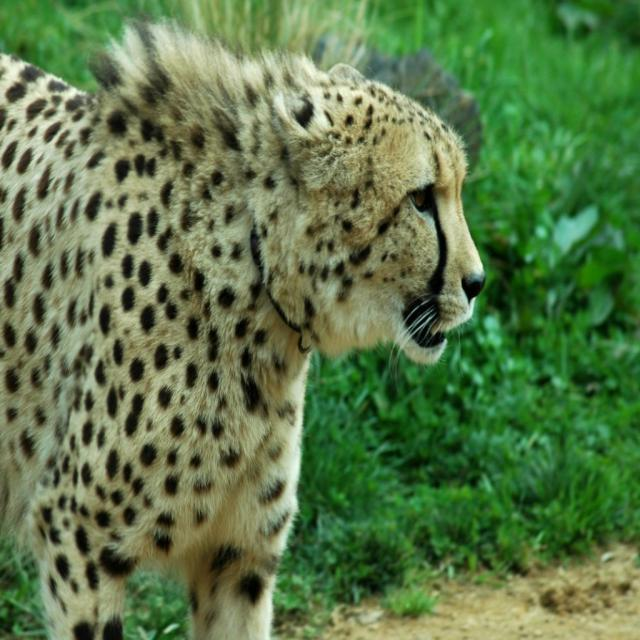Cheetah: (0, 16, 487, 639)
